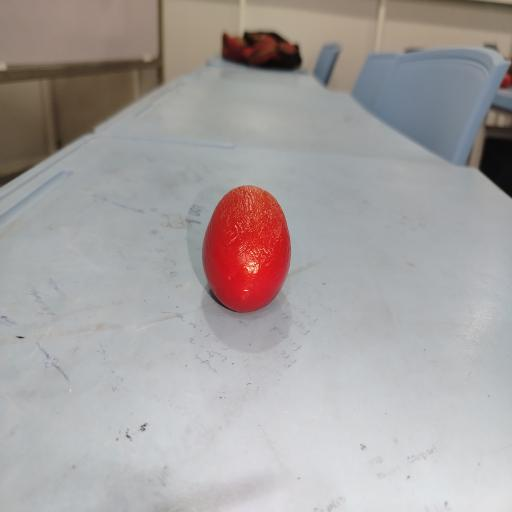spoiled: (202, 186, 291, 312)
